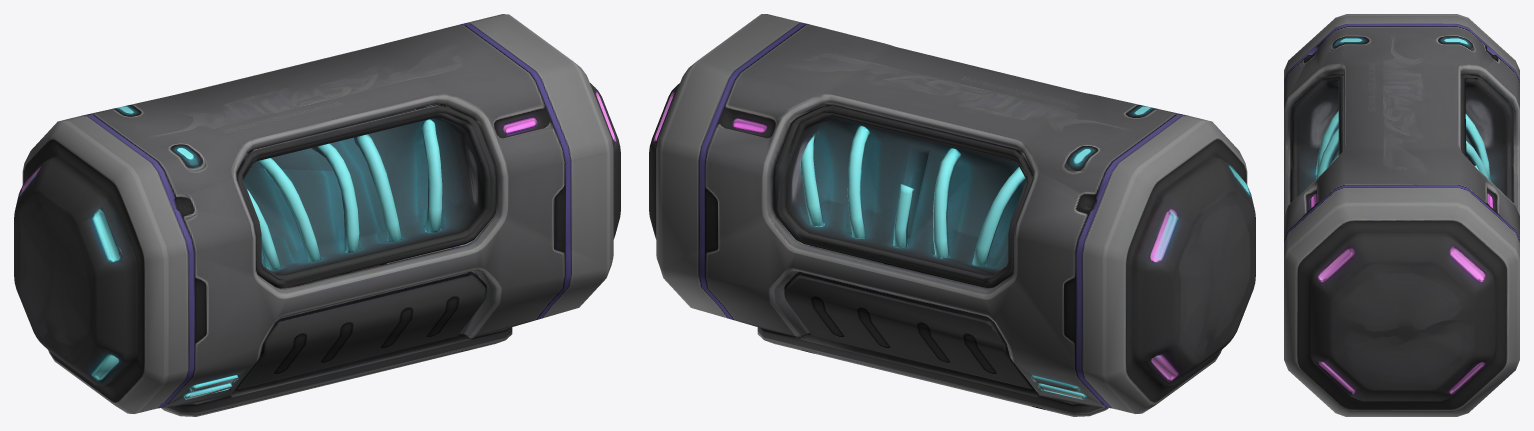
Rendered from asset_pack_item_glb-vd730pkbrbwesez24haez5dfb18c0x55-2-ks7c7jw5vbhdvptyjdwd7n20y18c1gyg.glb.
3 renders of one model, left to right at view 1: azimuth 30°, elevation 25°; view 2: azimuth 150°, elevation 25°; view 3: azimuth 270°, elevation 25°, orthographic. The views are drawn at different scales.
Parts seen in each view (by area): view 1: Energy cell canister; view 2: Energy cell canister; view 3: Energy cell canister.
Boxes of the visible parts, <box> form: Energy cell canister: <box>14,14,620,416</box>; Energy cell canister: <box>649,14,1255,416</box>; Energy cell canister: <box>1284,14,1519,416</box>.
Size of the model in its own units: 0.998 by 0.4785 by 0.4473.
Materials: 1 (1 with a texture image).
